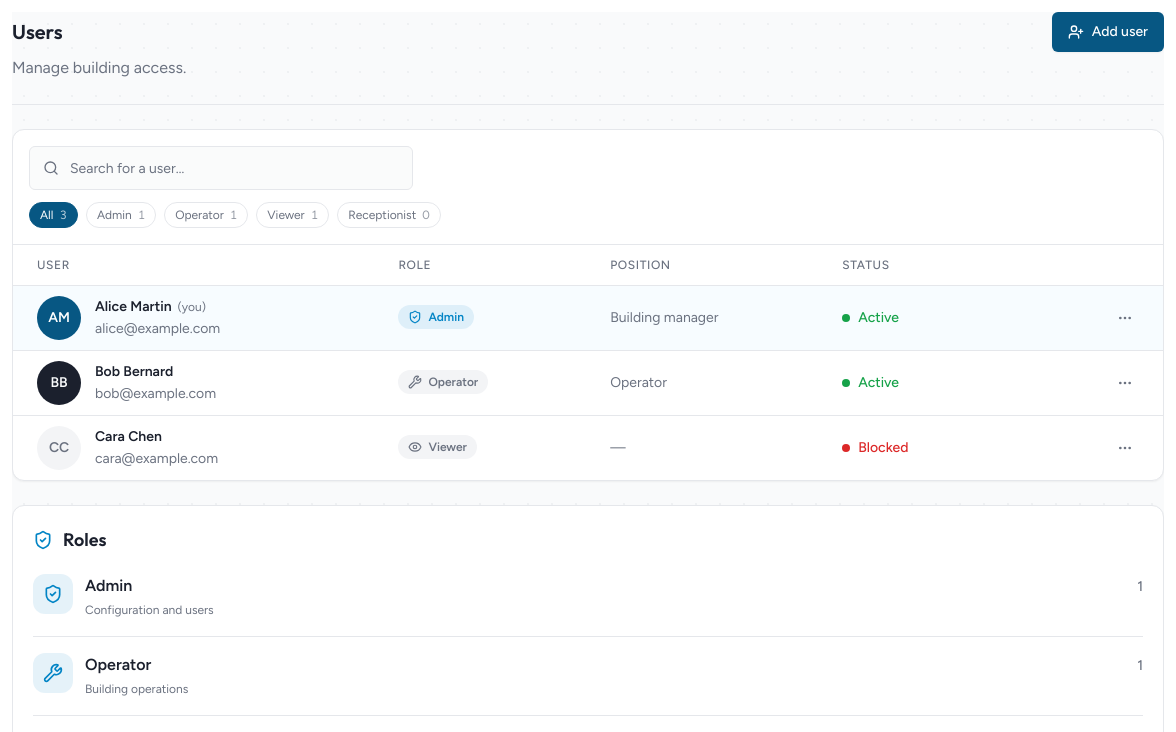
Scenario: UsersPage › filters users by search text and role
Check: the text "Alice Martin" is shown, box [95, 298, 172, 314]
Type "bob" into the search field labelled "Search for a user…" at (221, 168), box [29, 146, 413, 190]
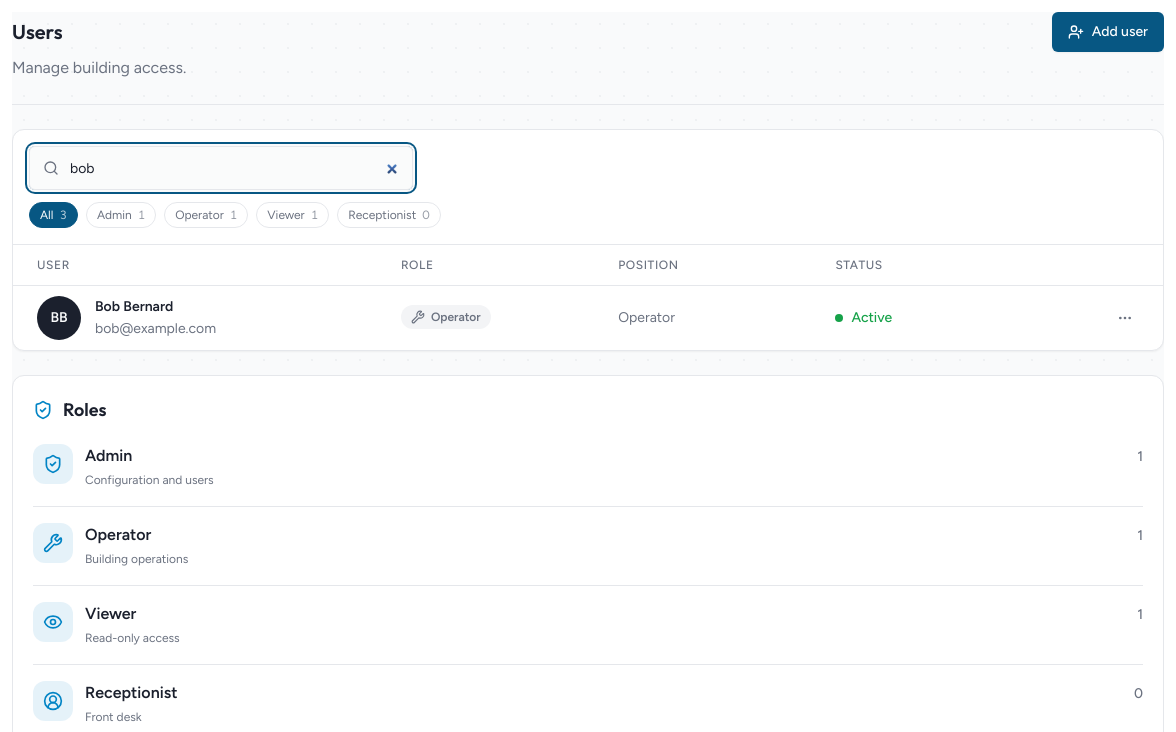
Check: the text "Bob Bernard" is shown, box [95, 298, 173, 314]
Check: the text "Alice Martin" is gone
Clear the search field named "Search for a user…" at (221, 168), box [29, 146, 413, 190]
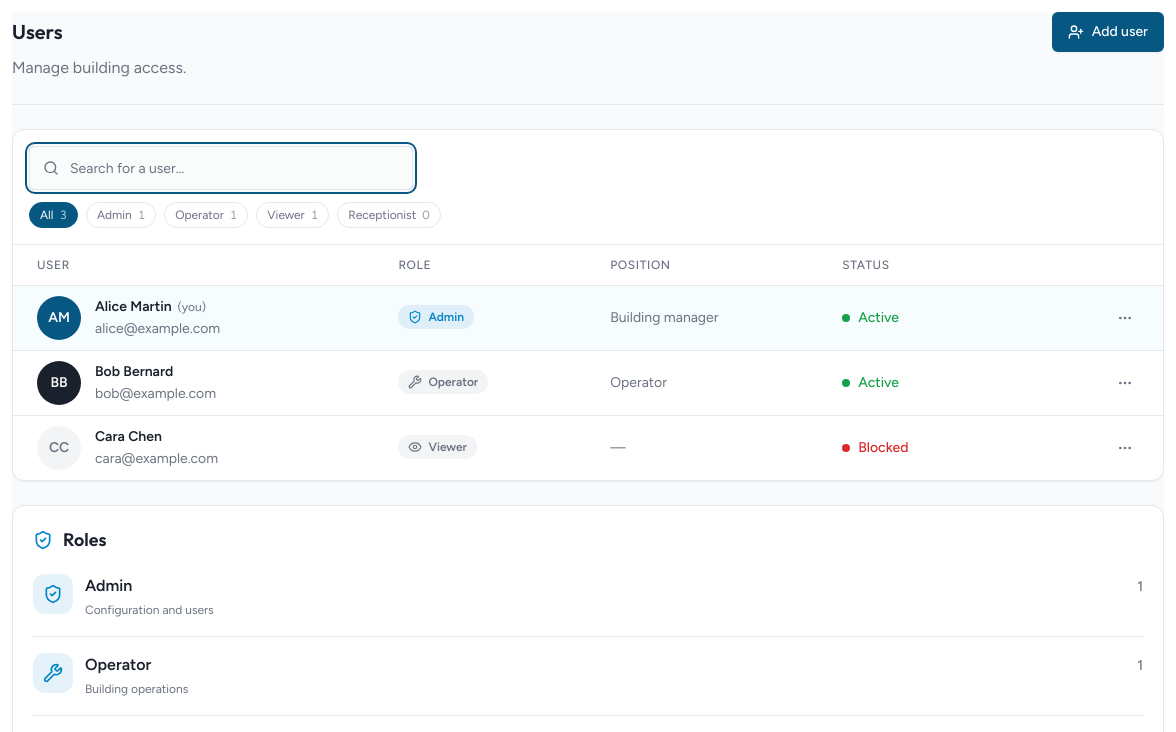
Click the button named "Viewer1" at (293, 215), box [256, 202, 329, 228]
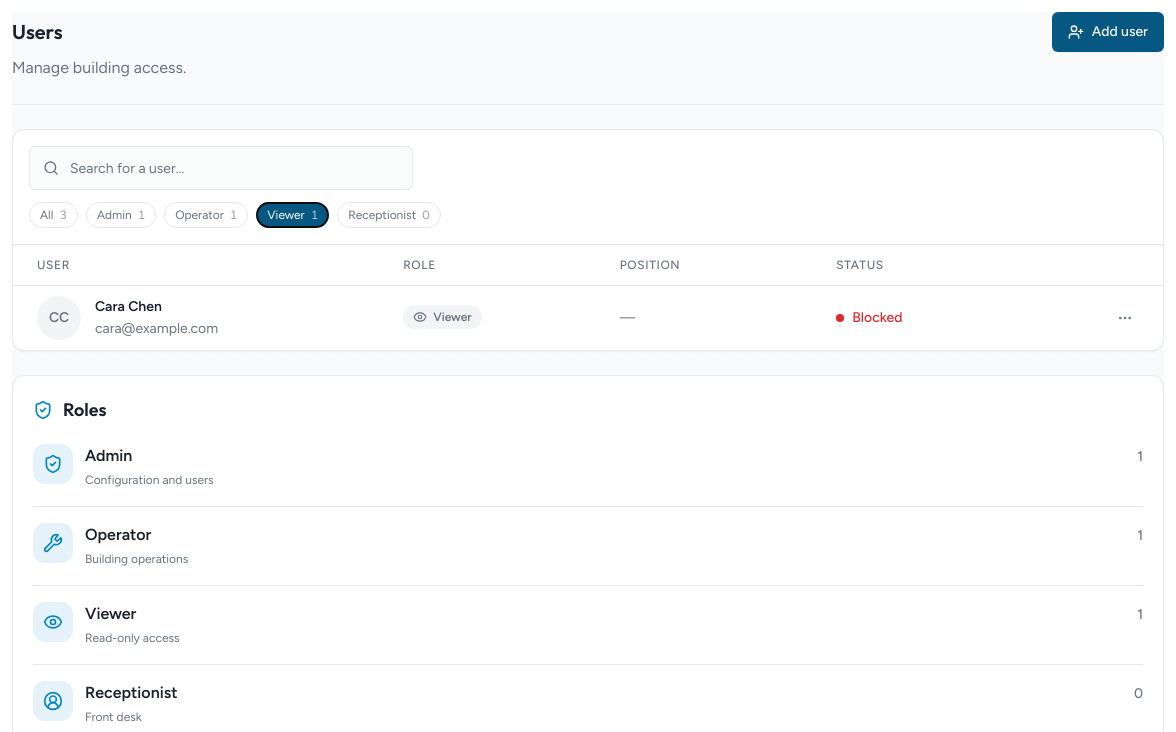
Check: the text "Cara Chen" is shown, box [95, 298, 162, 314]
Check: the text "Bob Bernard" is gone
